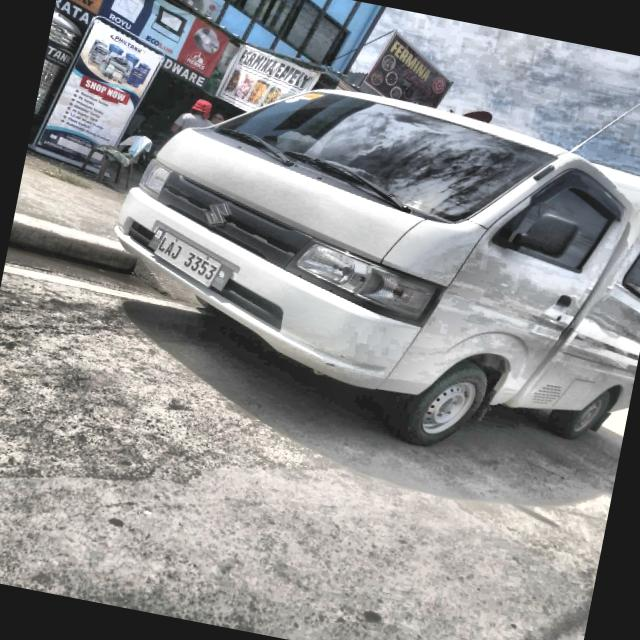license-plate: (151, 231, 224, 289)
